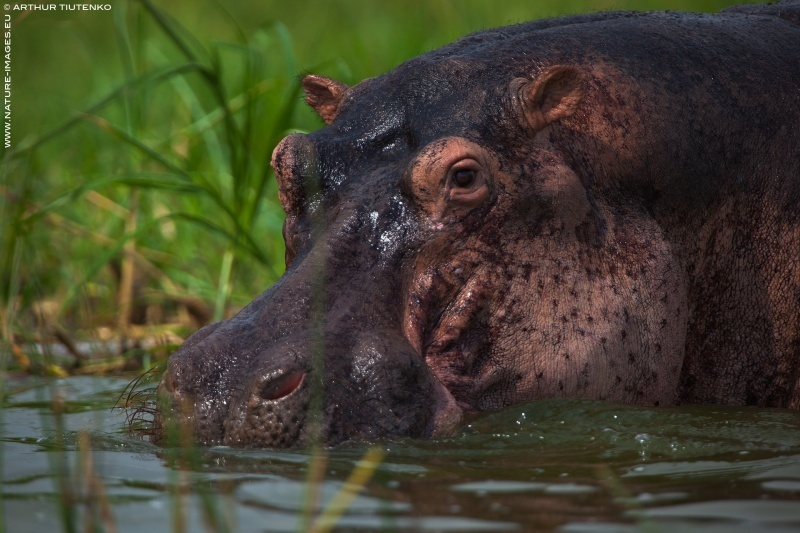hipopotamo: (93, 1, 800, 493)
